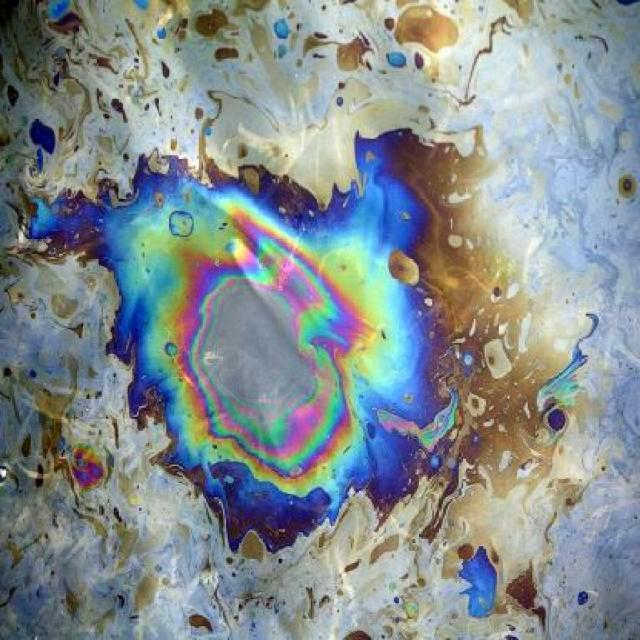oil: (12, 32, 510, 628)
